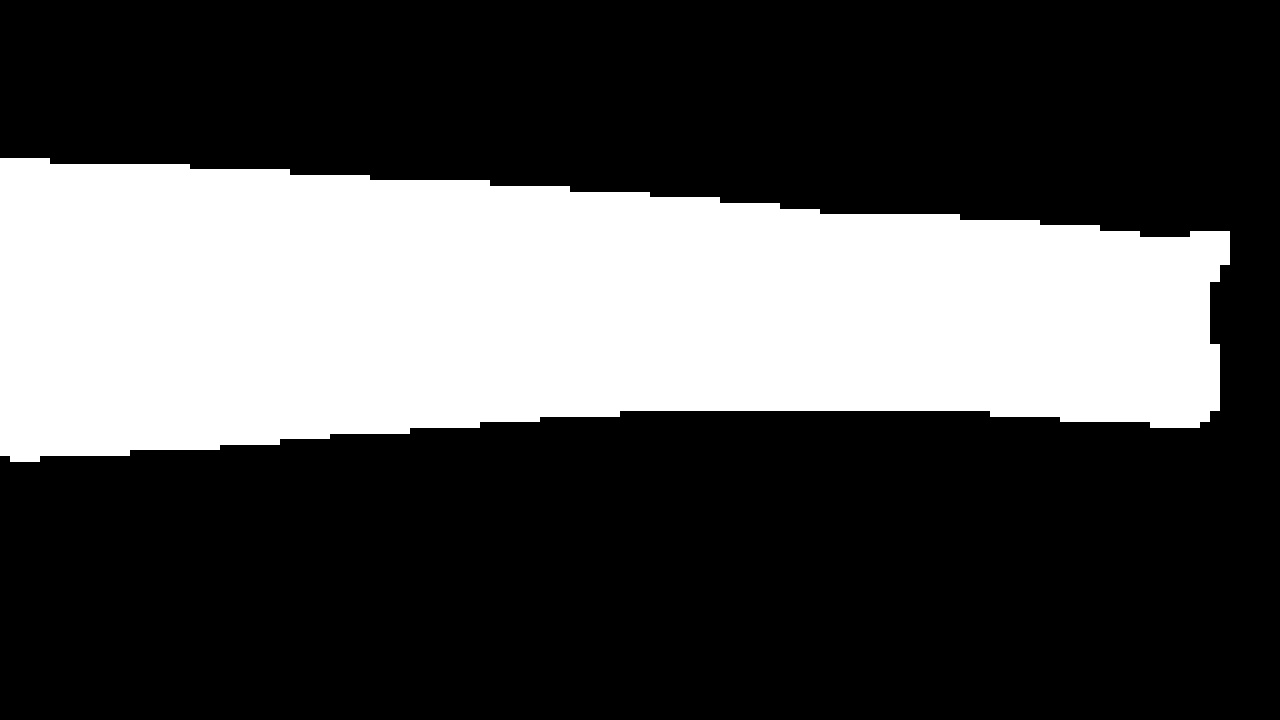Turbine: (11, 143, 1224, 459)
